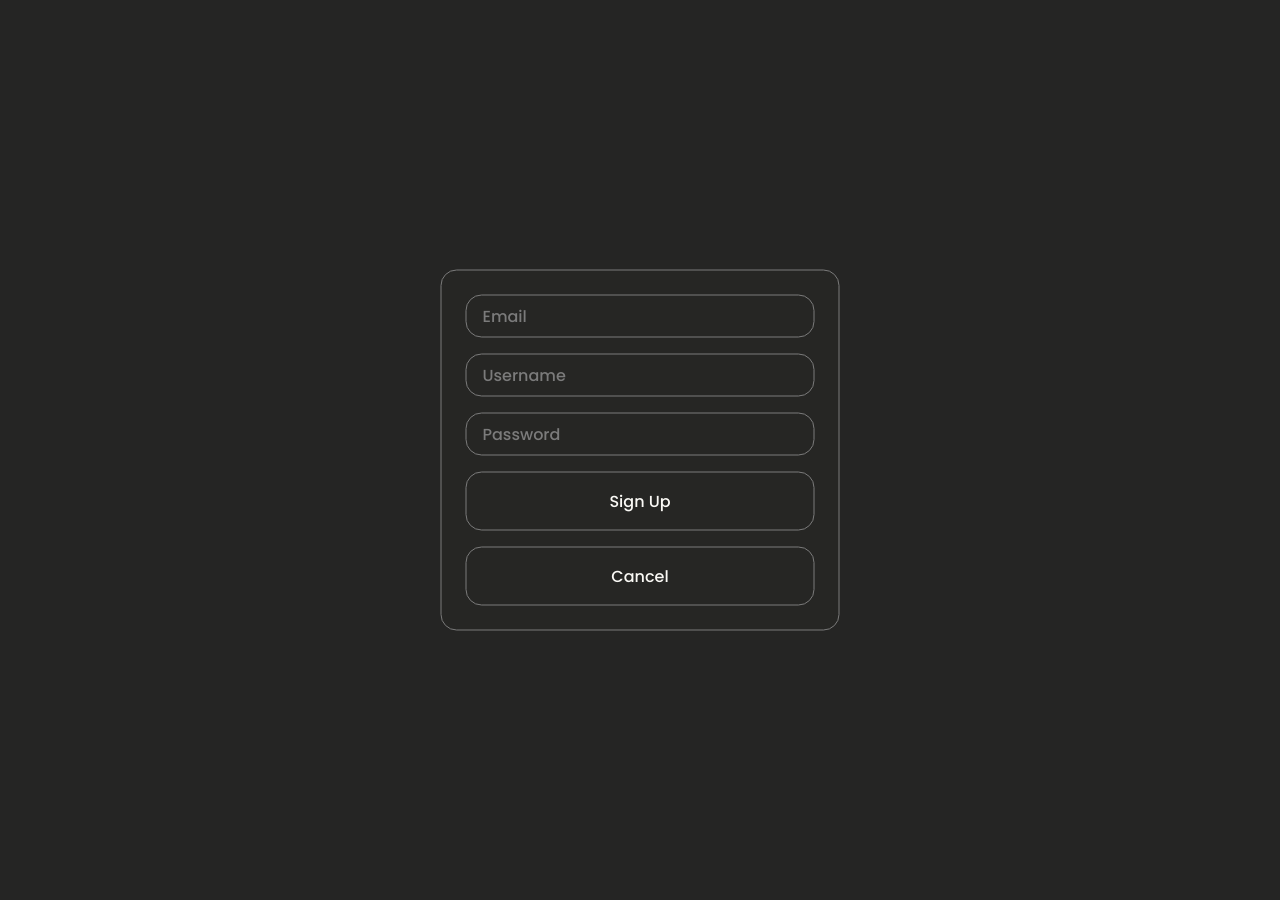
Test case: Signup component › Failed signup › should not navigate on failed signup
Type "test@example.com" into the field with placeholder "Email".
click(640, 316); type("test@example.com")  # box [466,294,814,338]
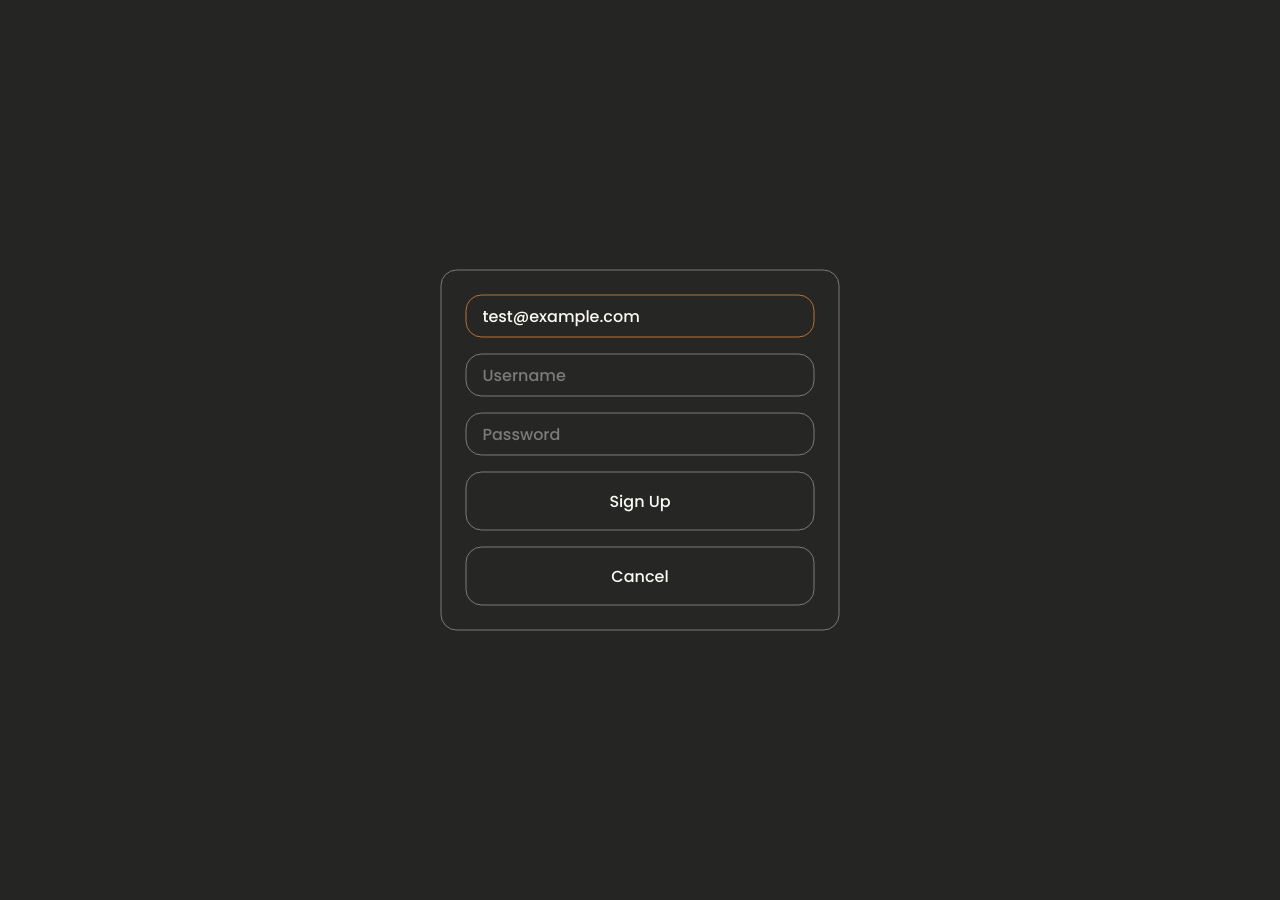
Type "username" into the field with placeholder "Username".
click(640, 375); type("username")  # box [466,354,814,396]
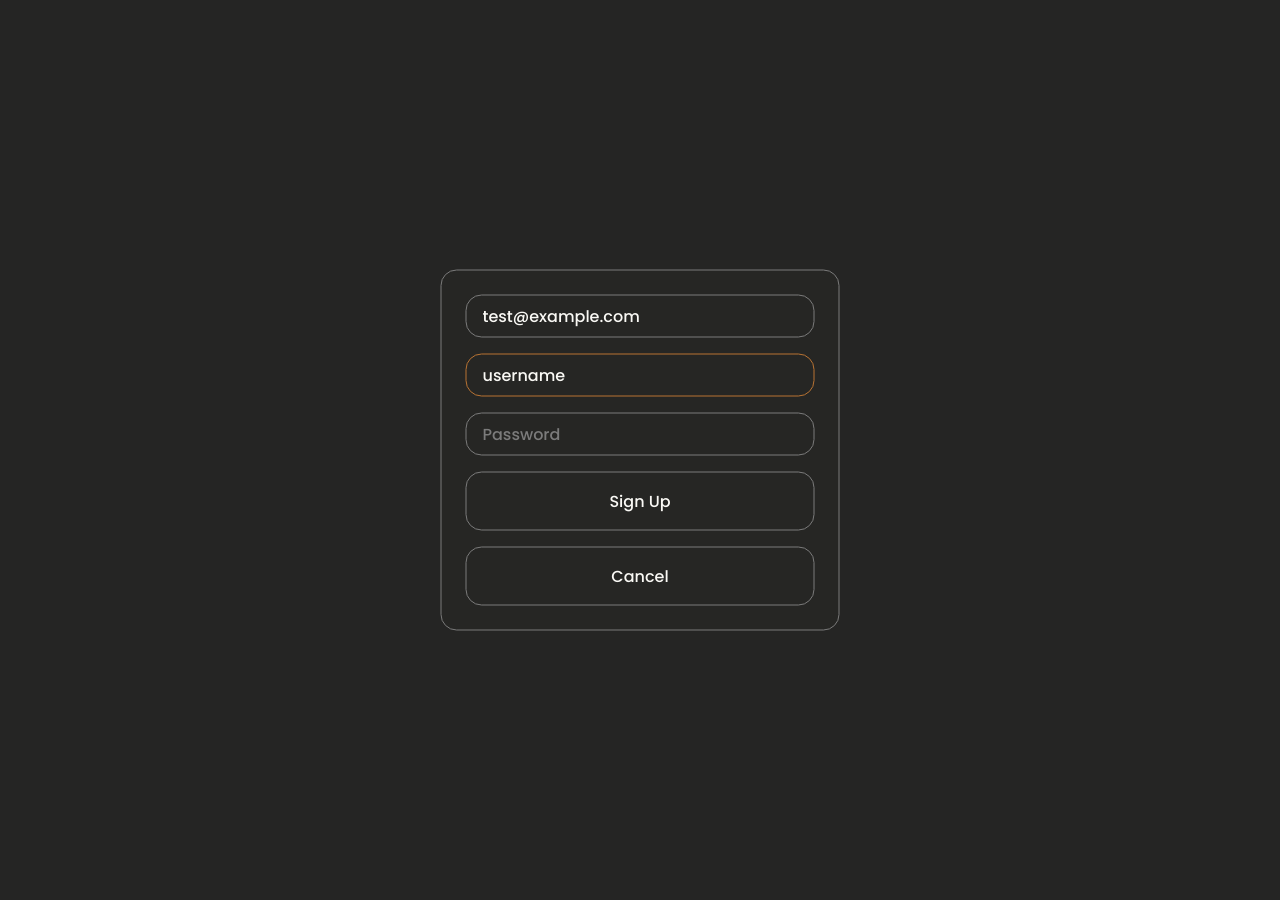
Type "password123" into the password field with placeholder "Password".
click(640, 434); type("password123")  # box [466,412,814,456]
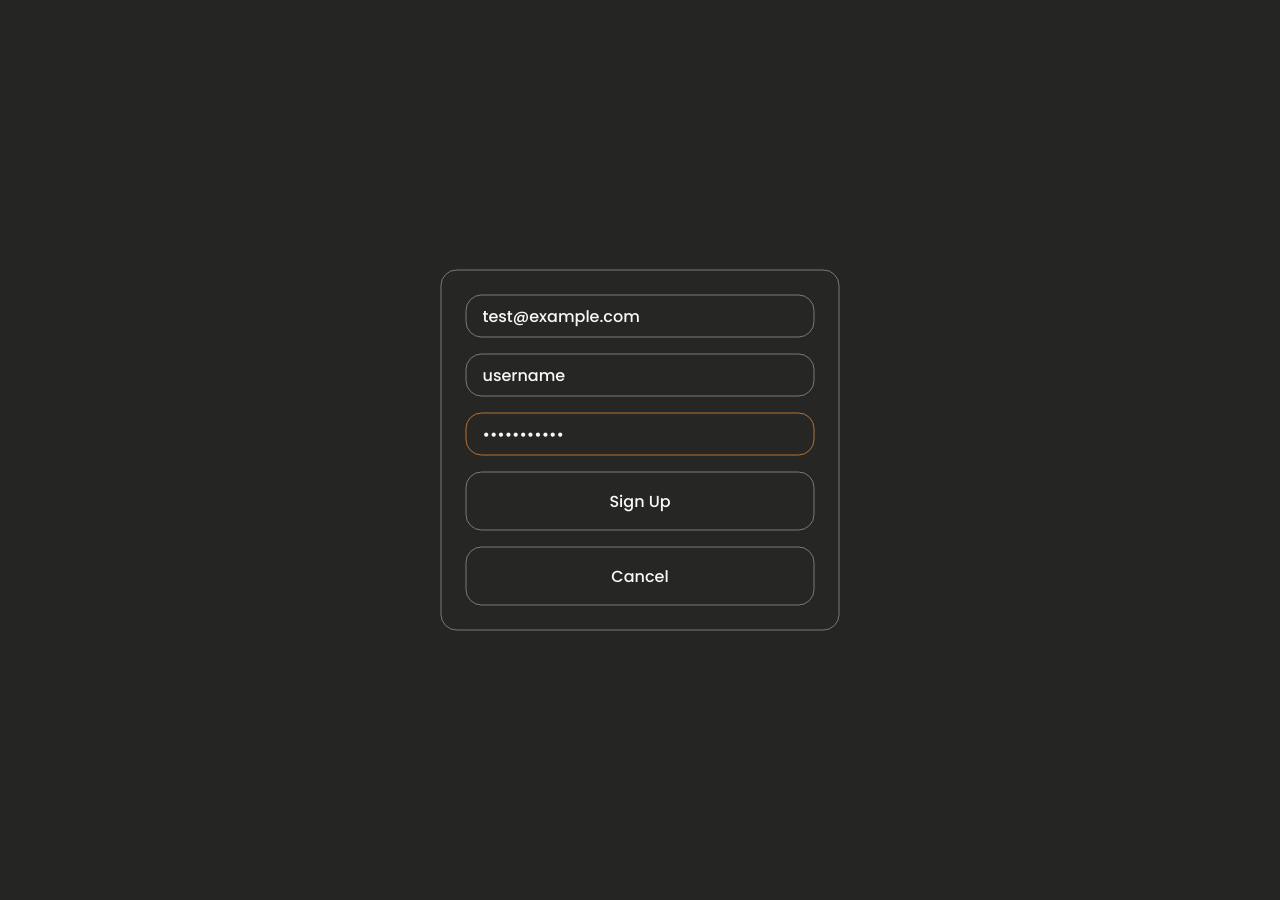
Click the button "Sign Up".
click(640, 501)  # box [466,472,814,530]
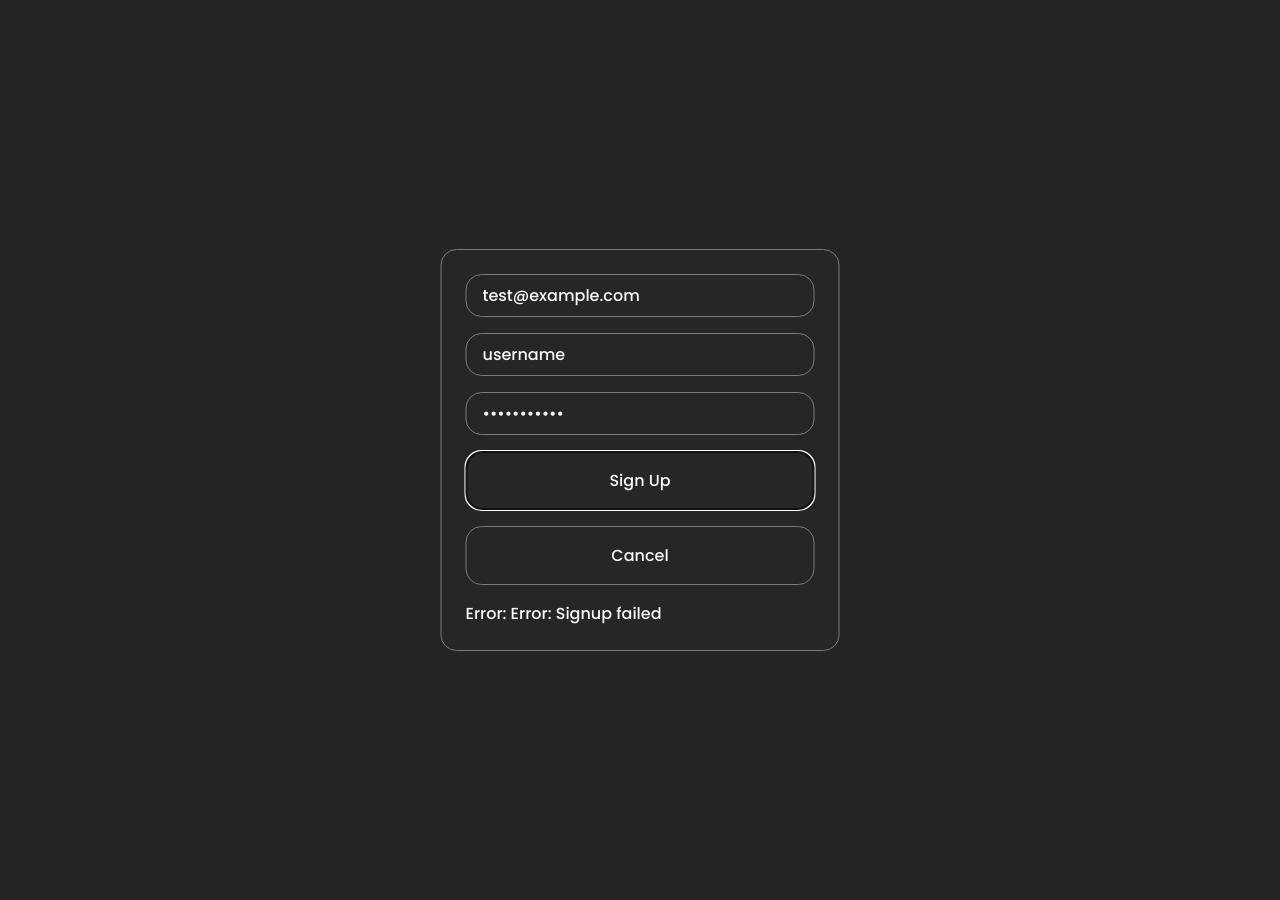
Check: the text "Error: Error: Signup failed" is shown, box [466,602,662,625]
